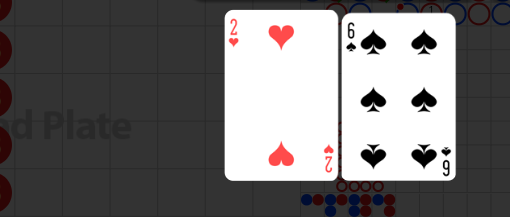2H: (228, 18, 241, 49)
6S: (439, 144, 452, 177)
